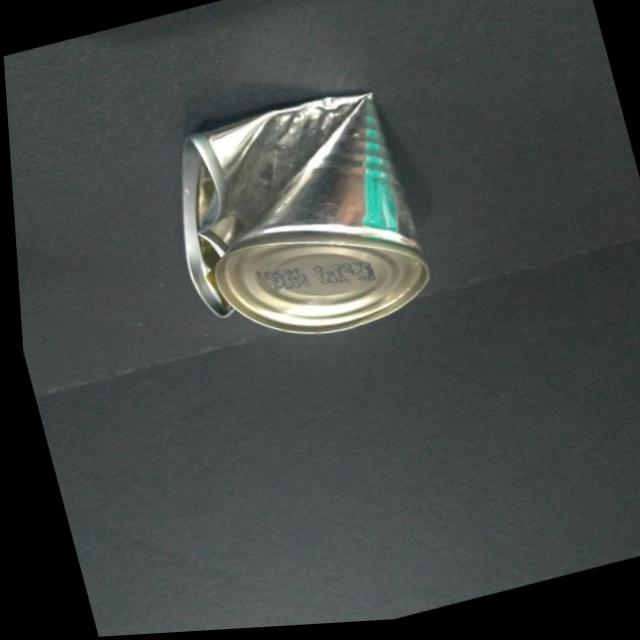metal: (182, 94, 428, 333)
